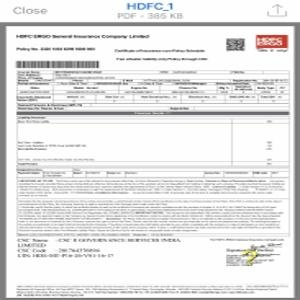image: (254, 34, 288, 52)
table: (16, 112, 291, 165), (18, 69, 290, 109), (16, 165, 292, 178)
text: (15, 178, 286, 232), (16, 236, 181, 261), (13, 32, 153, 43), (113, 47, 212, 62)
